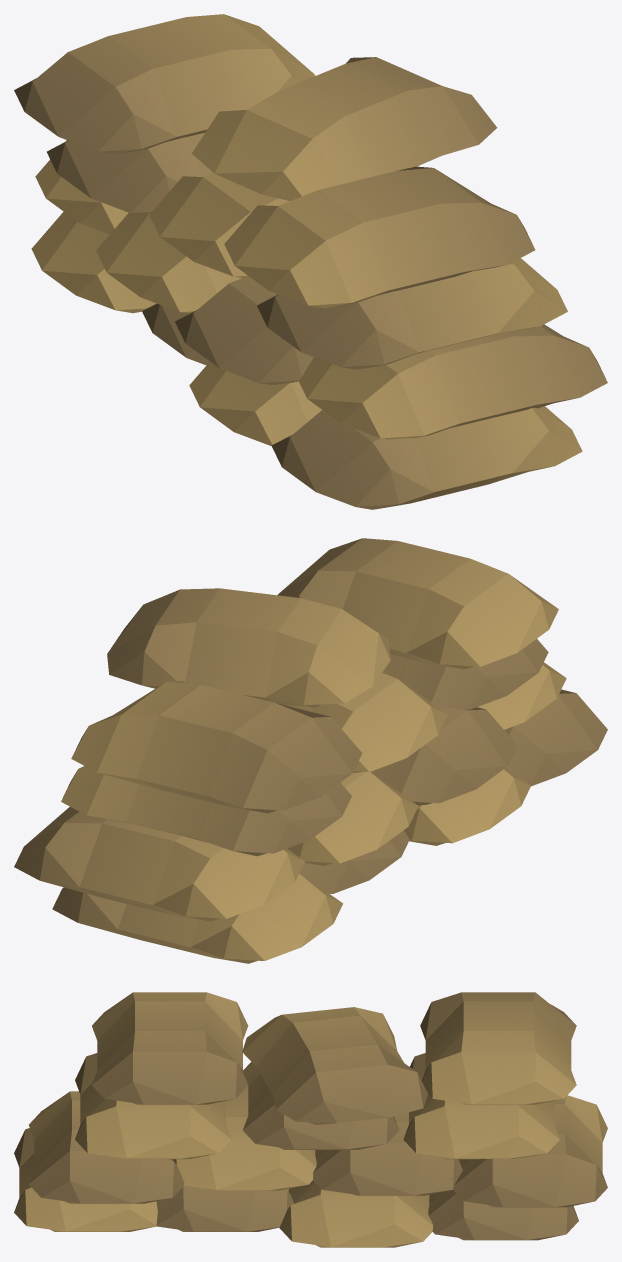
The model's file is Sack_1C_LOD1.fbx.
3 views of the same model, one above another, from view 1: azimuth 30°, elevation 25°; view 2: azimuth 150°, elevation 25°; view 3: azimuth 270°, elevation 25° (orthographic). The views are drawn at different scales.
Visible parts, largest first — view 1: polySurface9683; view 2: polySurface9683; view 3: polySurface9683.
Part boxes in pixels (left/top/right/bottom): polySurface9683: left=14, top=14, right=607, bottom=509; polySurface9683: left=14, top=538, right=607, bottom=963; polySurface9683: left=14, top=992, right=607, bottom=1247.
Size of the model in its own units: 213 by 157 by 422.
